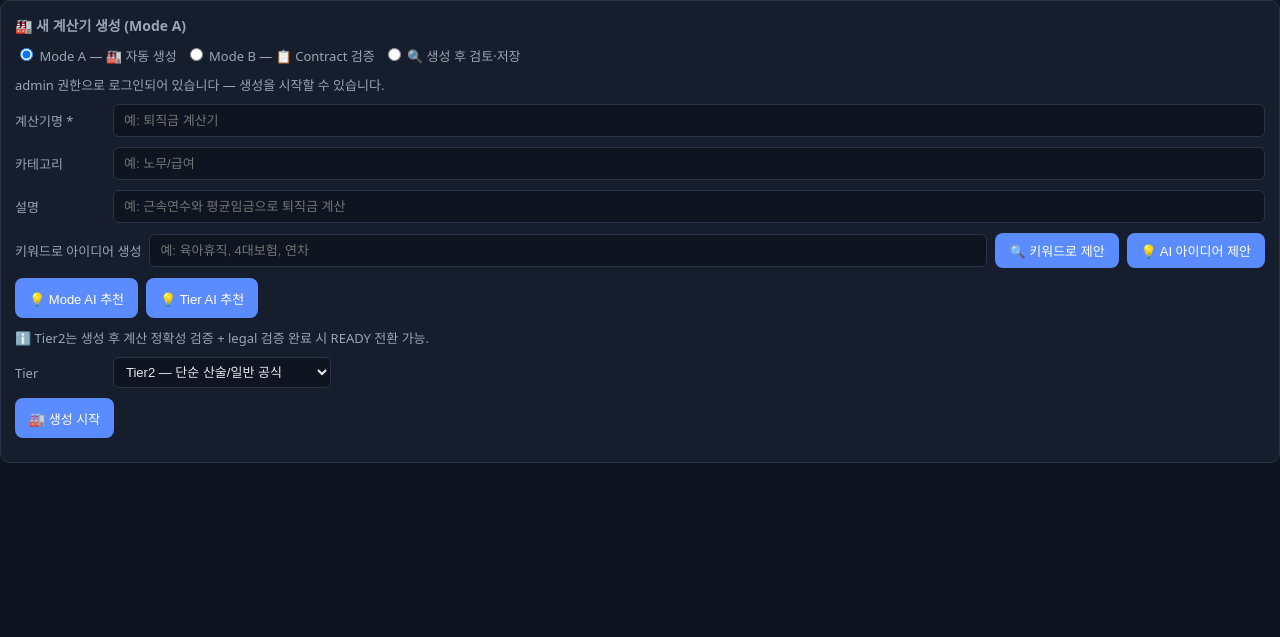
Test: App Factory 기본 정보 AI 보조 › Mode 추천은 표시만 한다(HIGH는 확신 표시, 그 외는 보통/불확실)
Click the radio button labelled "Mode B — 📋 Contract 검증" at (196, 54), box [190, 48, 203, 61]
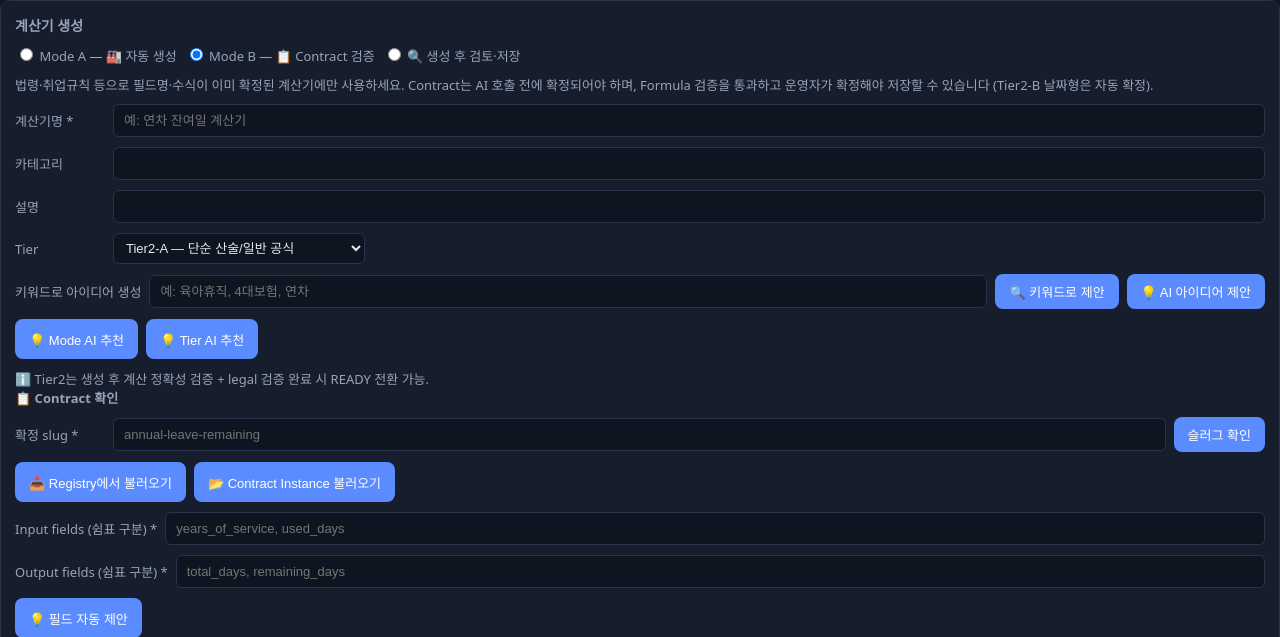
Now the field labelled "계산기명 *" is shown
Type "퇴직금 계산기" into the field labelled "계산기명 *" at (689, 120), box [113, 104, 1265, 137]
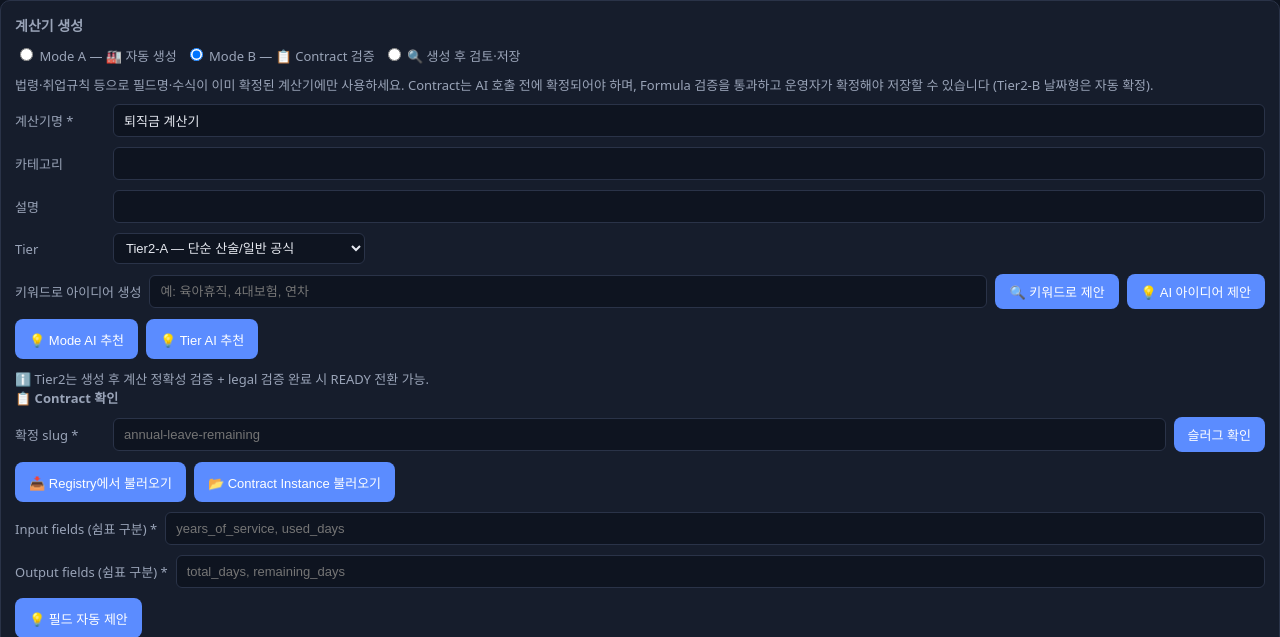
Click the button "💡 Mode AI 추천" at (77, 339), box [15, 319, 138, 359]
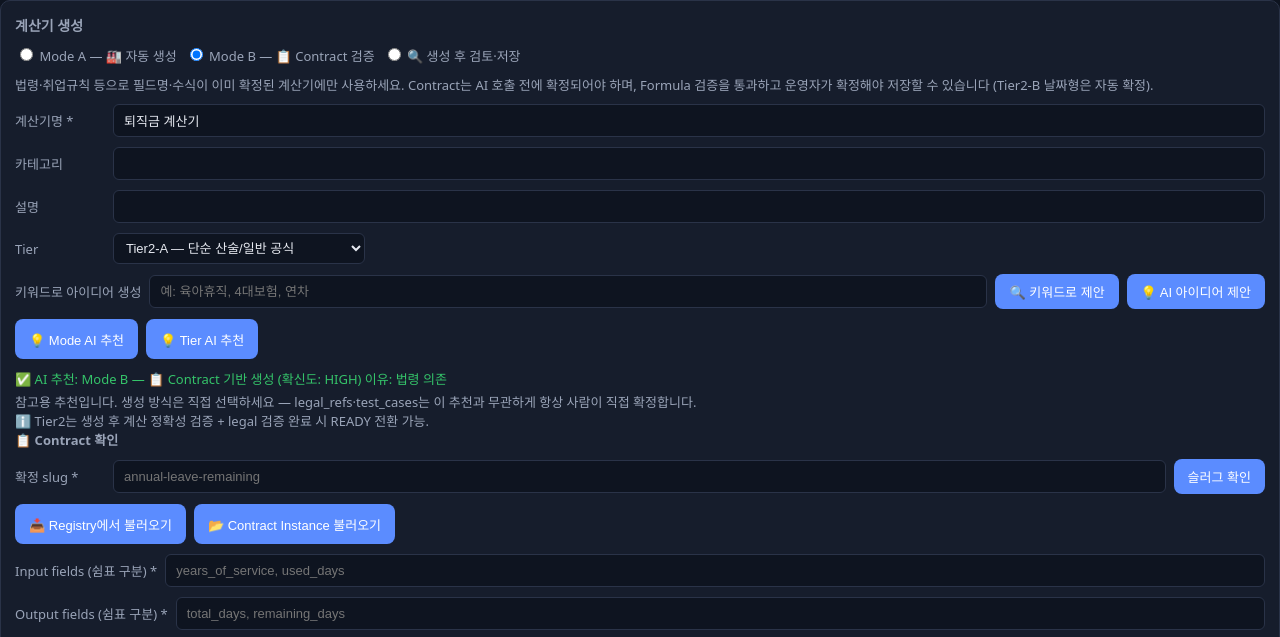
Now the text "✅ AI 추천: Mode B — 📋 Contract 기반 생성 (확신도: HIGH) 이유: 법령 의존" is shown, box [15, 370, 447, 388]
Click the button "💡 Mode AI 추천" at (77, 339), box [15, 319, 138, 359]
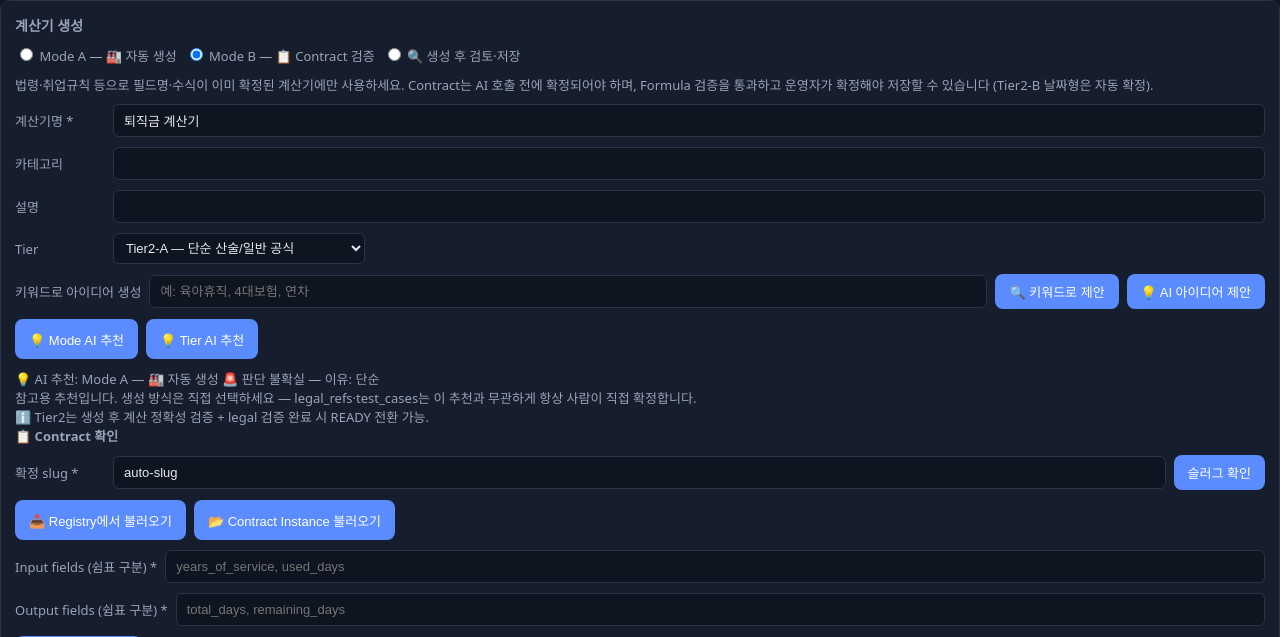
Now the radio button labelled "Mode B — 📋 Contract 검증" is checked, box [190, 48, 203, 61]
Now the text "💡 AI 추천: Mode A — 🏭 자동 생성 🚨 판단 불확실 — 이유: 단순" is shown, box [15, 370, 379, 388]
